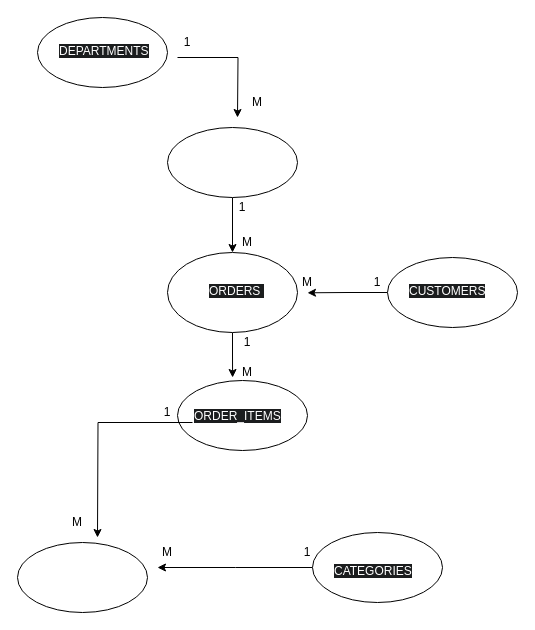
Image size: 535x630. Some labels were removed from this diagram. Each missing label, with the centre of its shape:
EMPLOYEES: the point at 232,162
PRODUCTS: the point at 82,577
